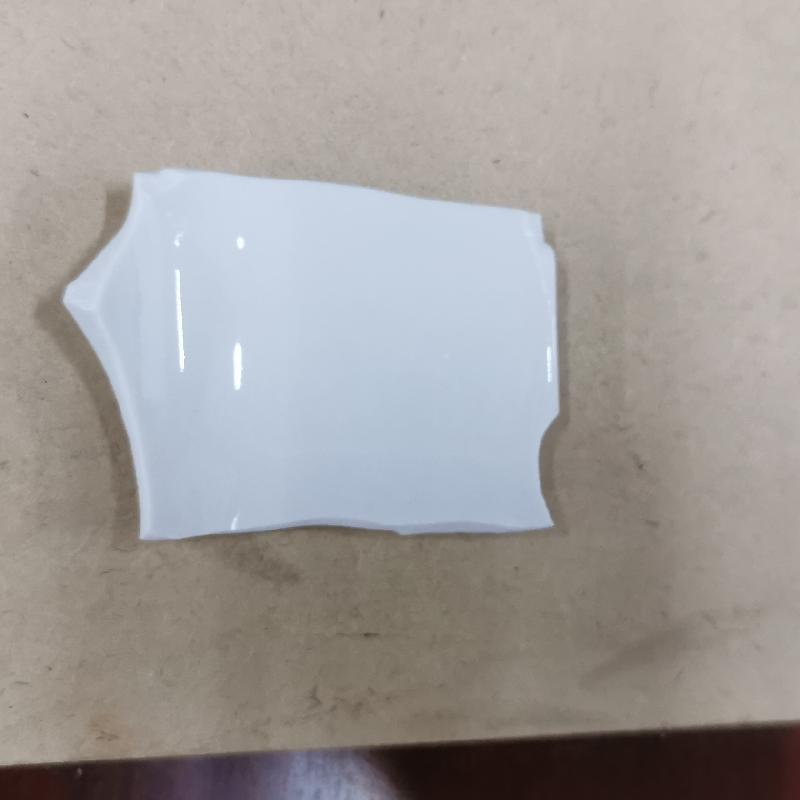ceram: (61, 165, 566, 545)
